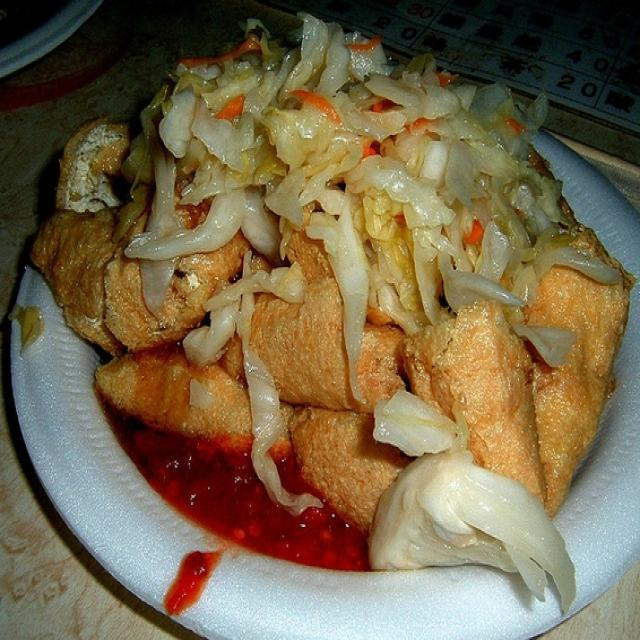豆腐料理: (9, 10, 631, 631)
